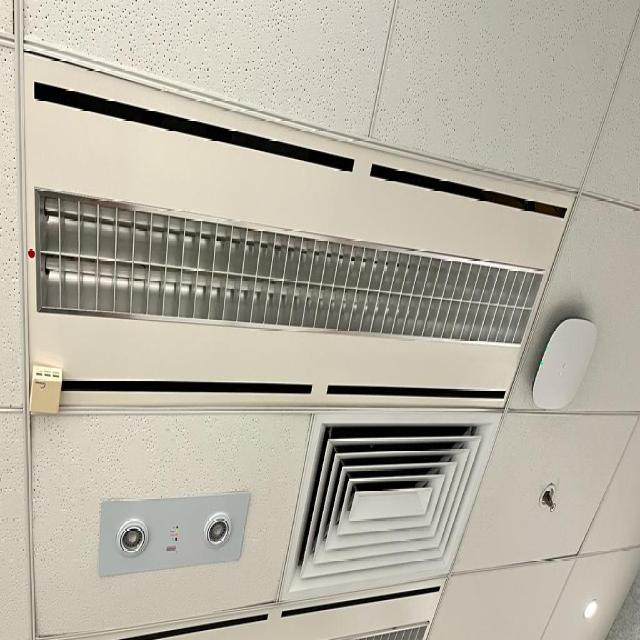Light-Closed: (20, 50, 576, 409)
Light-Opened: (581, 596, 599, 625)
